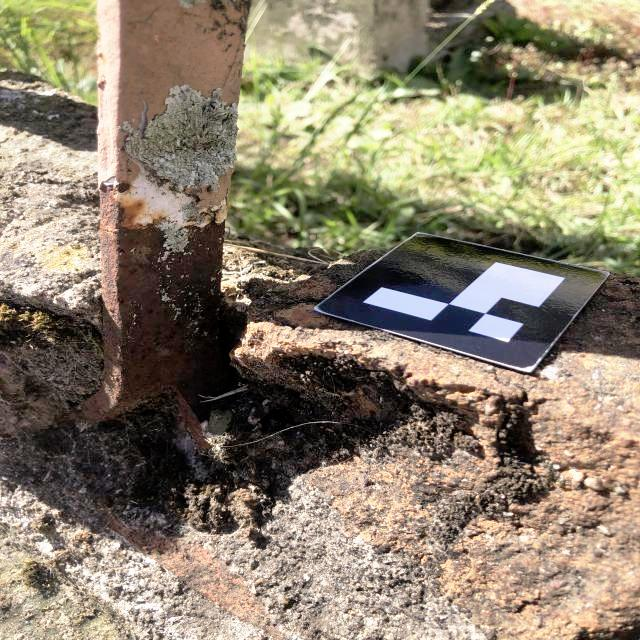Corrosion: (70, 182, 226, 449)
